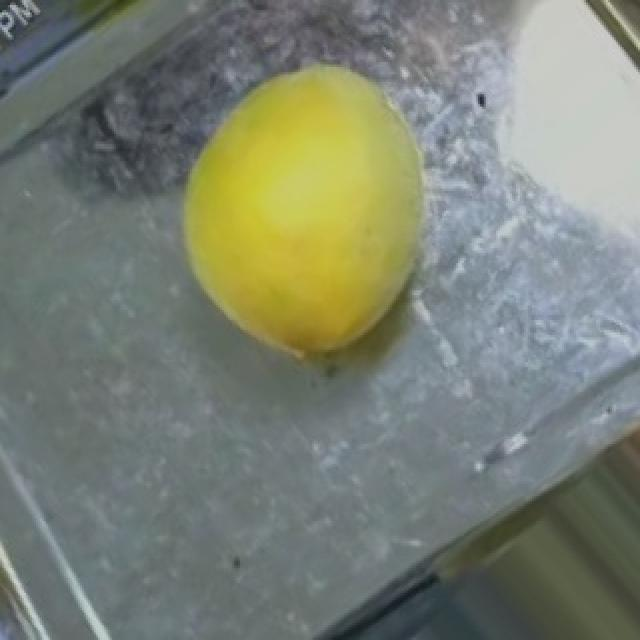fruit: (120, 7, 500, 407)
